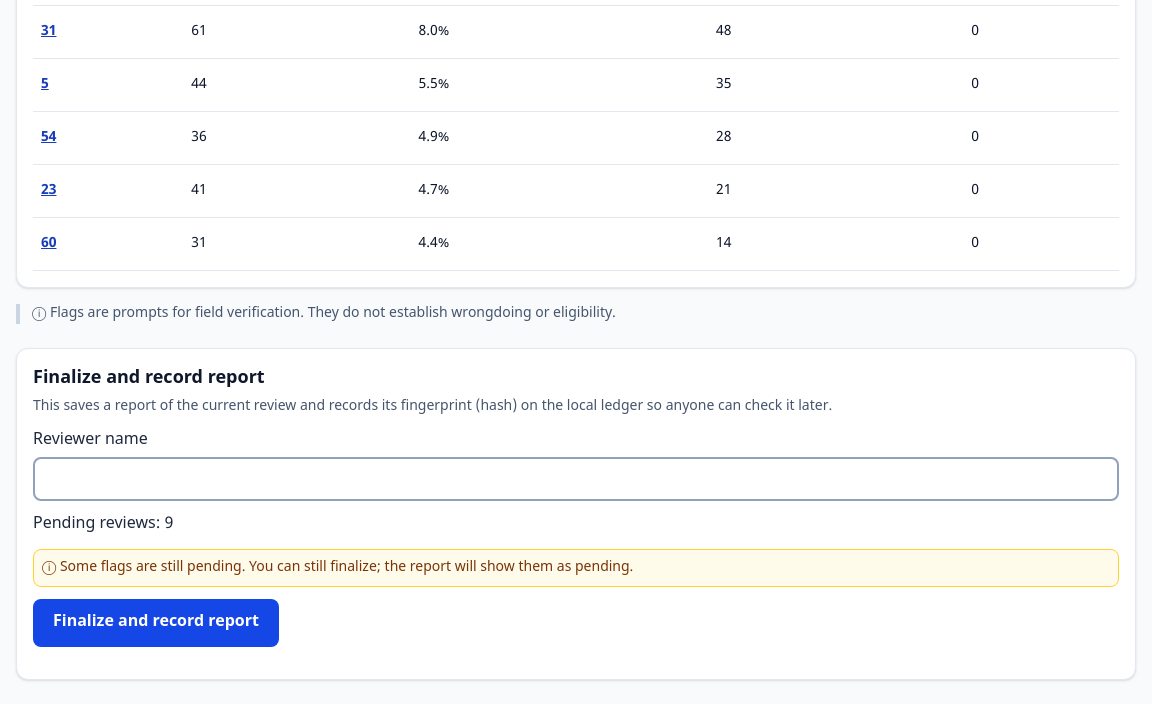
FinalizePanel › records the report and shows the report card from the mock
(page scrolled)
Type "R. Sharma" into the field labelled "Reviewer name".
click(576, 479); type("R. Sharma")  # box [33, 457, 1119, 501]
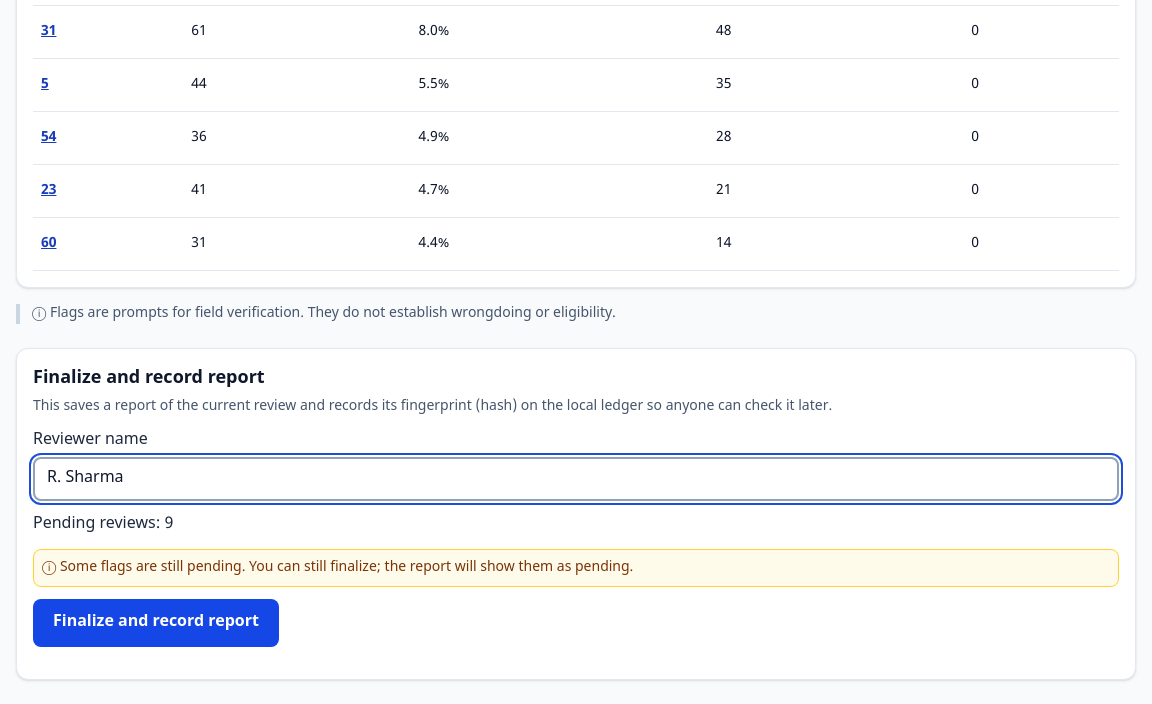
Click the button "Finalize and record report".
click(156, 623)  # box [33, 599, 279, 647]
(page scrolled)
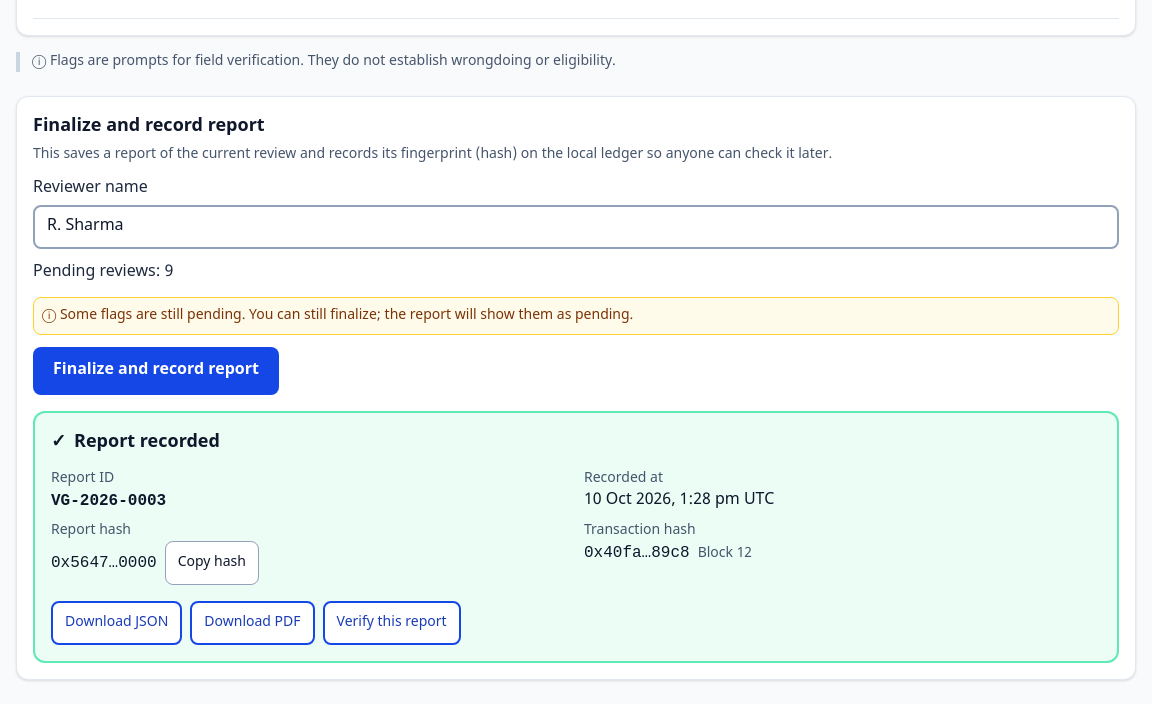
Now the text "VG-2026-0003" is shown, box [51, 492, 166, 510]
Now the text "0x40fa…89c8" is shown, box [584, 544, 690, 562]
